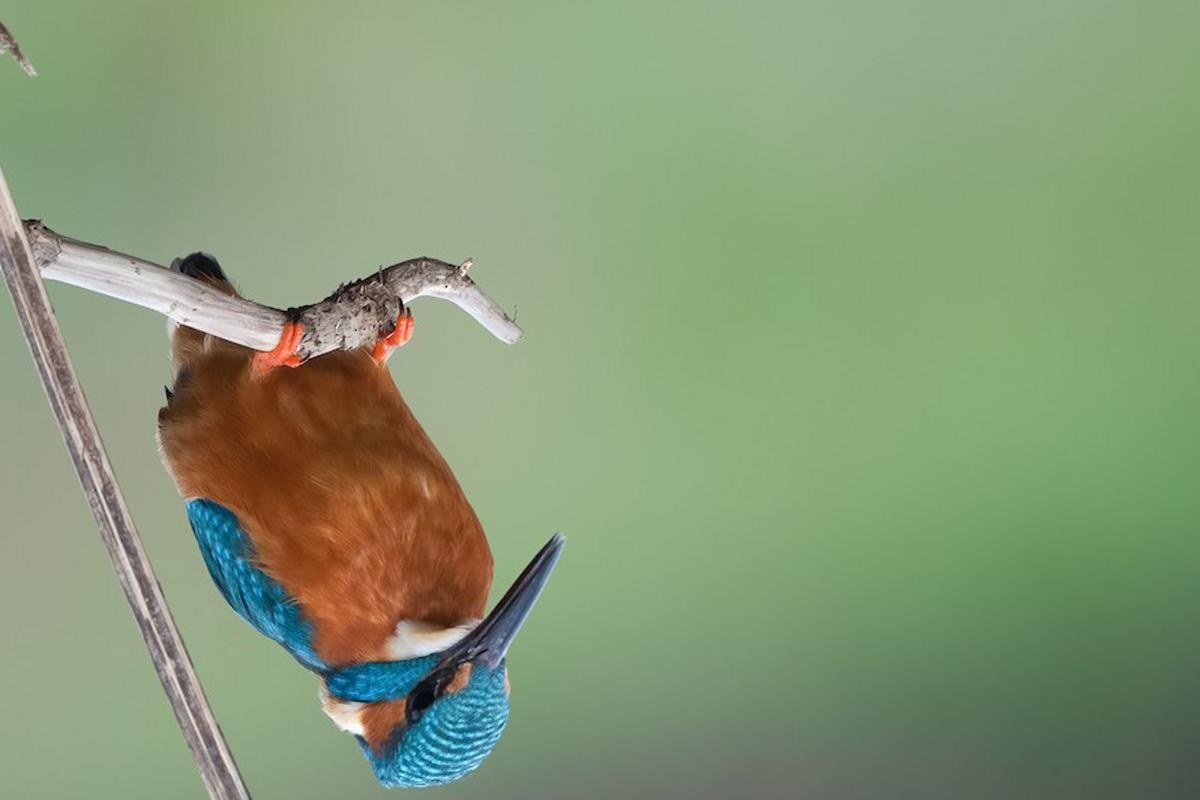kingfisher: (144, 181, 556, 787)
